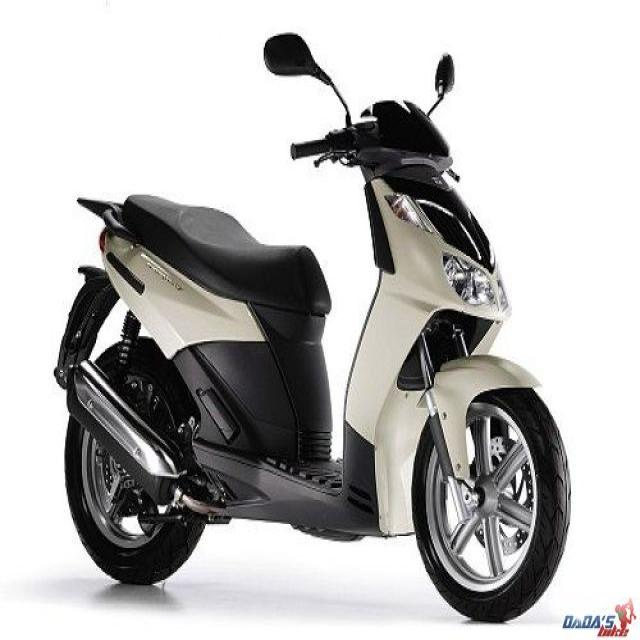Motorcycle: (55, 97, 569, 621)
